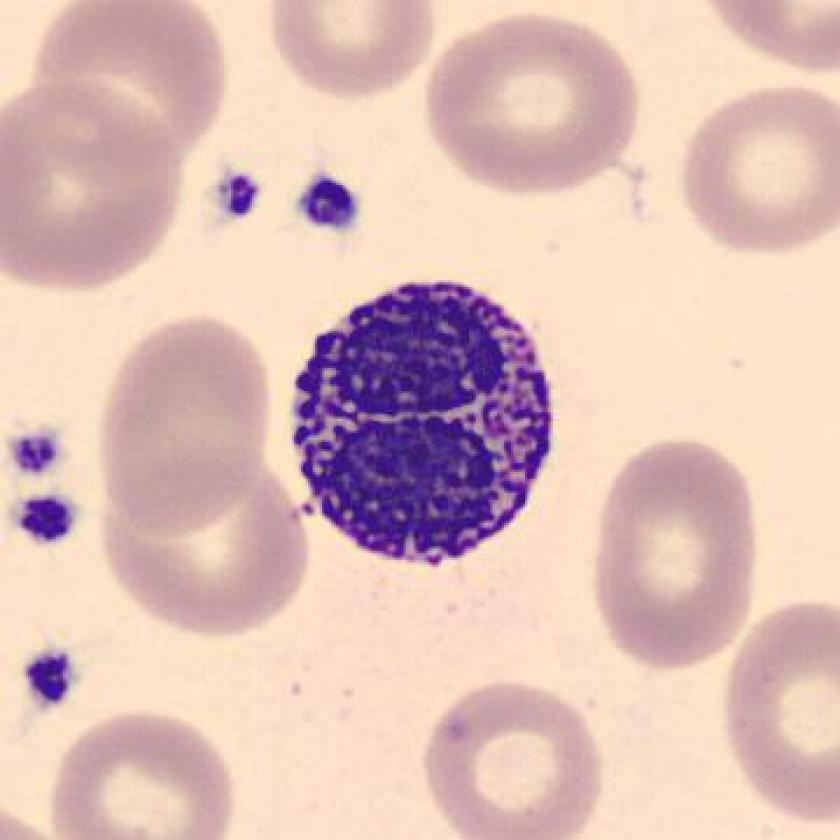basophil: (283, 270, 573, 578)
